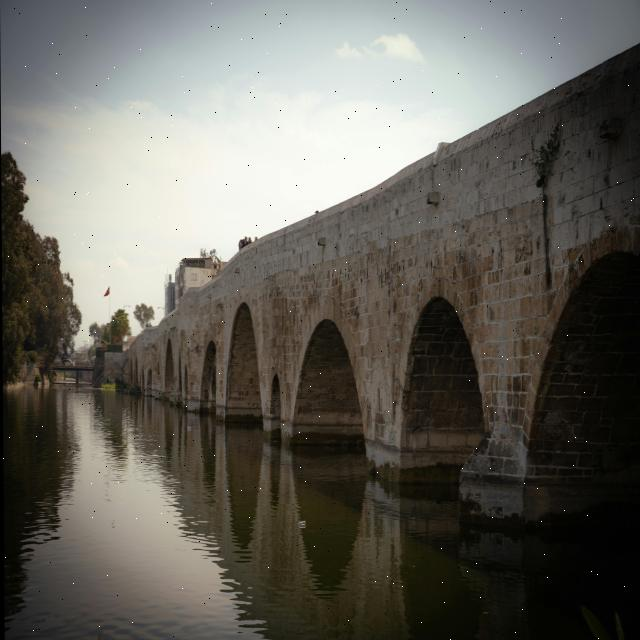Stone Bridge: (80, 24, 620, 503)
